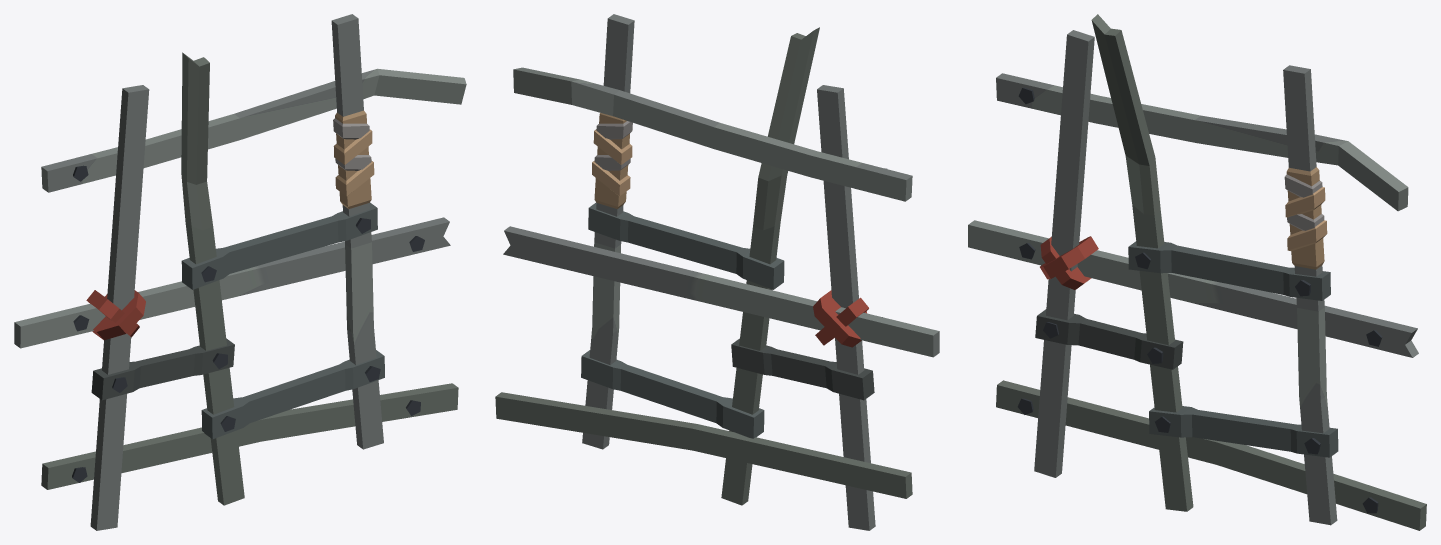
Rendered from SM_Window_Baricade_C.gltf.
3 renders of one model, left to right at view 1: azimuth 30°, elevation 25°; view 2: azimuth 150°, elevation 25°; view 3: azimuth 330°, elevation 25°, orthographic. The views are drawn at different scales.
Parts seen in each view (by area): view 1: SM_Window_Baricade_C; view 2: SM_Window_Baricade_C; view 3: SM_Window_Baricade_C.
Boxes of the visible parts, bbox=[...] form: SM_Window_Baricade_C: bbox=[14, 14, 466, 530]; SM_Window_Baricade_C: bbox=[495, 14, 939, 530]; SM_Window_Baricade_C: bbox=[968, 14, 1426, 530].
Bounding box in the file's own units: 1.47 × 1.52 × 0.2092.
1 material, 1 textured.
